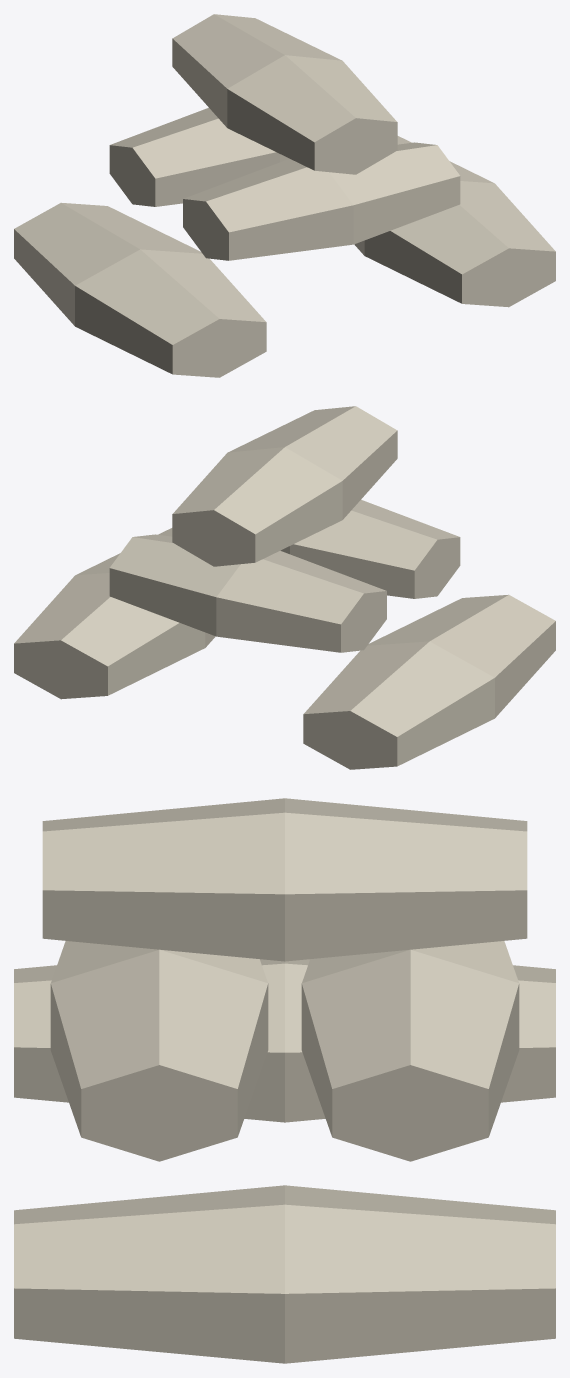
File: SN_Sack_Pile.glb
3 views of the same model, one above another, from view 1: azimuth 30°, elevation 25°; view 2: azimuth 150°, elevation 25°; view 3: azimuth 270°, elevation 25° (orthographic). The views are drawn at different scales.
Parts seen in each view (by area): view 1: SN_Sack_Pile; view 2: SN_Sack_Pile; view 3: SN_Sack_Pile.
Part boxes in pixels (x1,y1,x2,y2): SN_Sack_Pile: [14, 14, 555, 377]; SN_Sack_Pile: [14, 406, 555, 769]; SN_Sack_Pile: [14, 798, 555, 1363].
Size of the model in its own units: 1.45 by 0.795 by 0.95.
